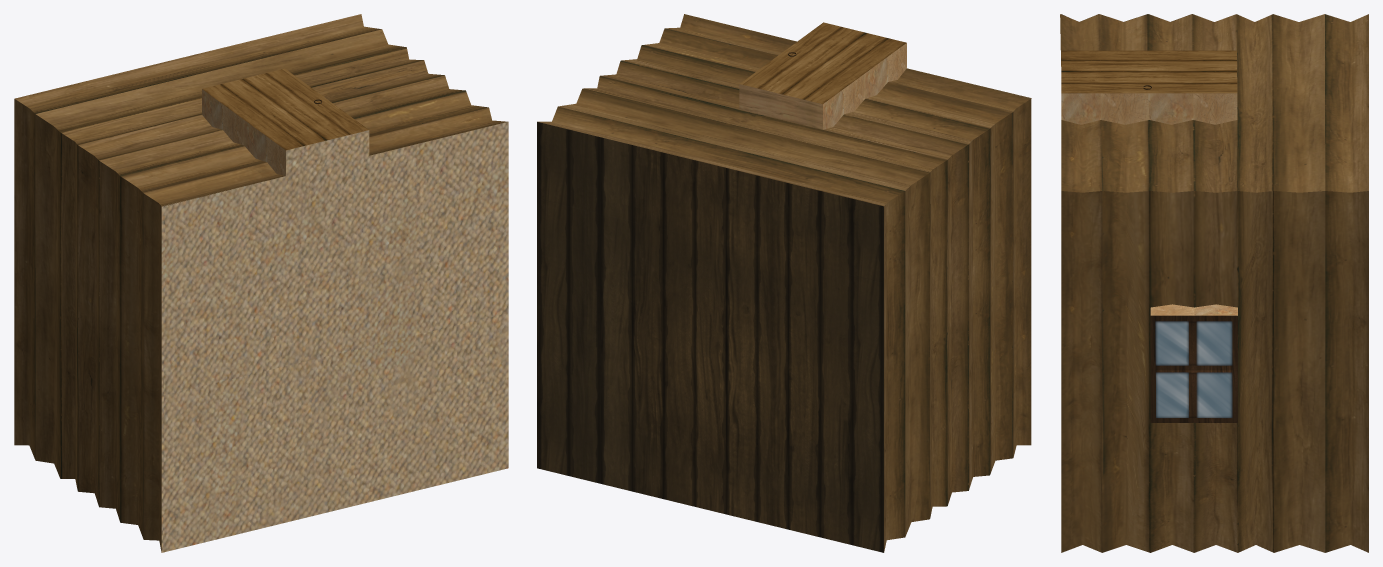
Rendered from Interior_Log_House_A.fbx.
3 renders of one model, left to right at view 1: azimuth 30°, elevation 25°; view 2: azimuth 150°, elevation 25°; view 3: azimuth 270°, elevation 25°, orthographic. The views are drawn at different scales.
Visible parts, largest first — view 1: Interior_Log_House_A; view 2: Interior_Log_House_A; view 3: Interior_Log_House_A.
Part boxes in pixels (<box>): Interior_Log_House_A: <box>14,14,508,552</box>; Interior_Log_House_A: <box>537,14,1031,552</box>; Interior_Log_House_A: <box>1060,14,1368,552</box>.
Size of the model in its own units: 47.01 by 48.18 by 33.18.
